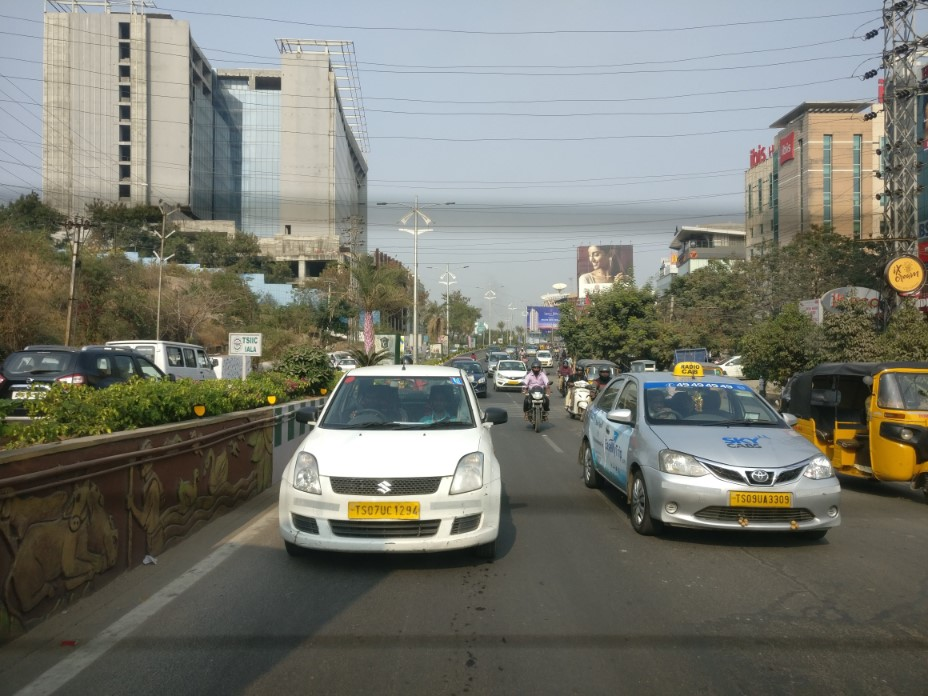swift desire: (285, 346, 506, 568)
